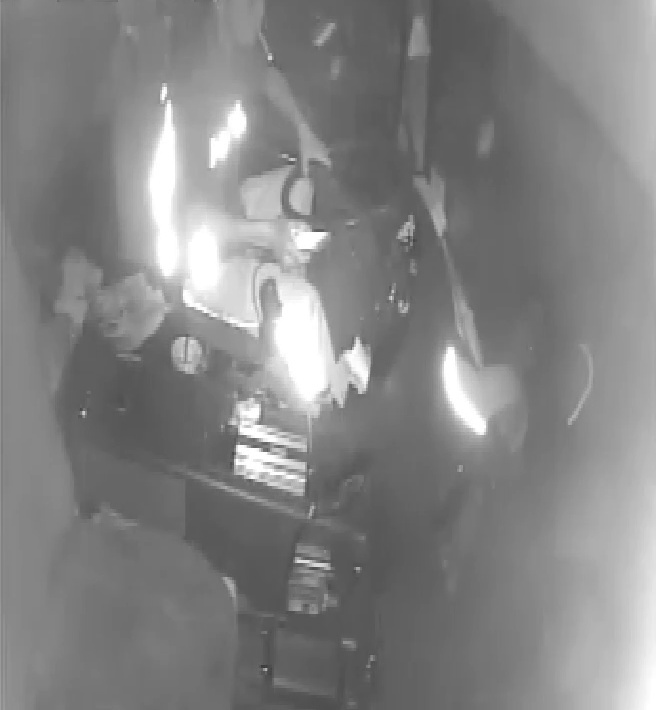cellphone: (277, 216, 333, 262)
